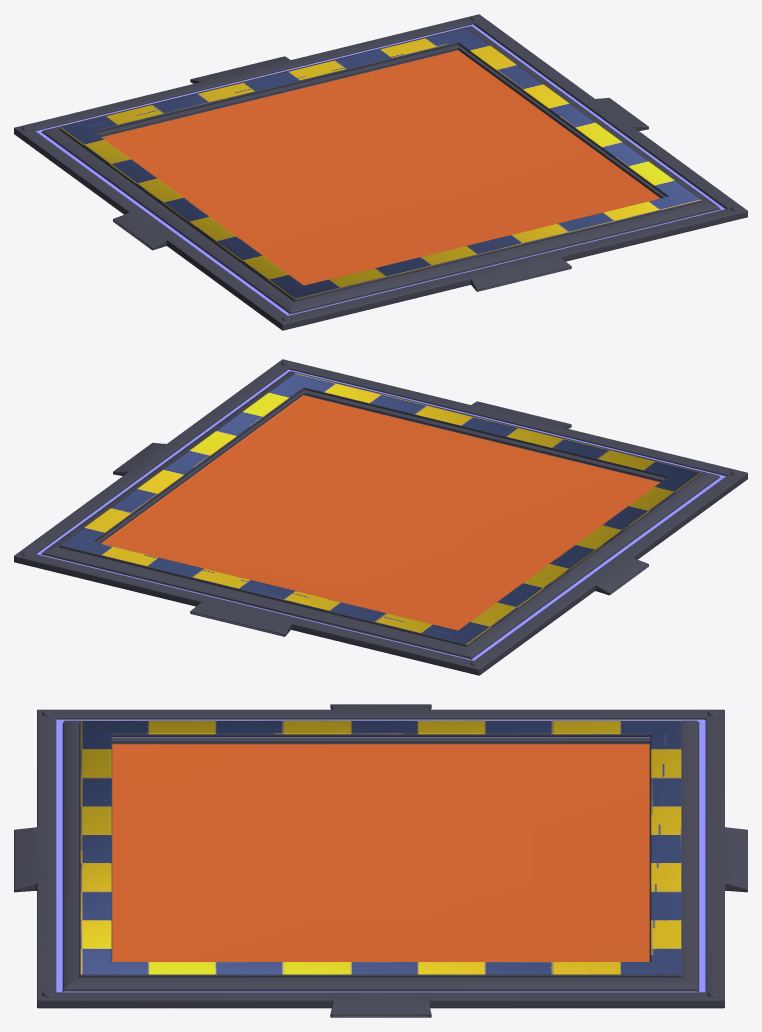
Rendered from farmP.glb.
The picture shows the model from 3 angles, top to bottom: view 1: azimuth 30°, elevation 25°; view 2: azimuth 150°, elevation 25°; view 3: azimuth 270°, elevation 25°; orthographic projection. The views are drawn at different scales.
Visible parts, largest first — view 1: Cube; view 2: Cube; view 3: Cube.
Boxes of the visible parts, bbox=[...] form: Cube: bbox=[14, 14, 747, 330]; Cube: bbox=[14, 359, 747, 675]; Cube: bbox=[14, 704, 747, 1017].
Bounding box in the file's own units: 9.26 × 0.2169 × 9.26.
4 materials, 1 textured.
